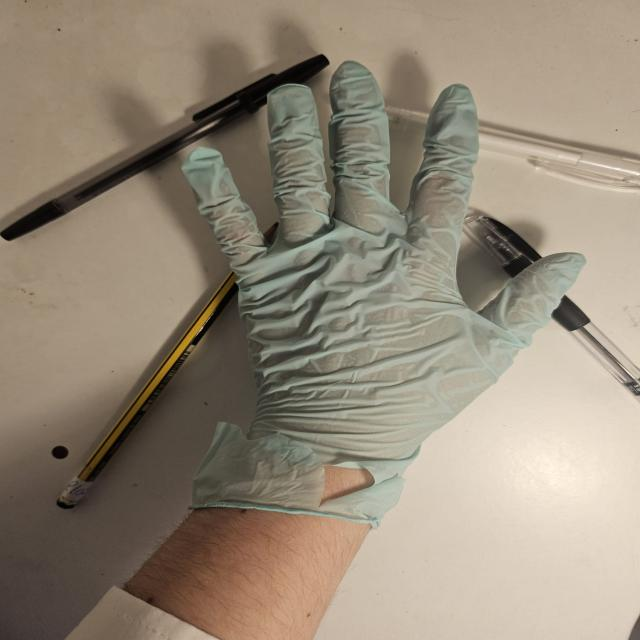gloves_damaged: (183, 63, 592, 519)
